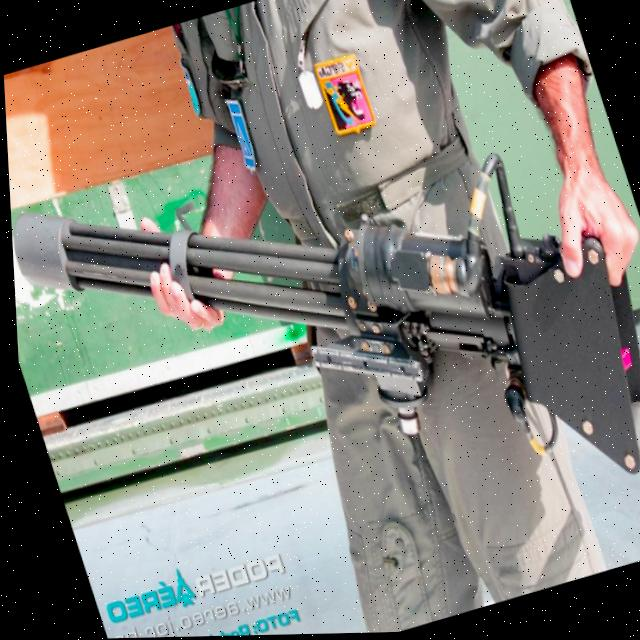firearm: (4, 92, 514, 478)
